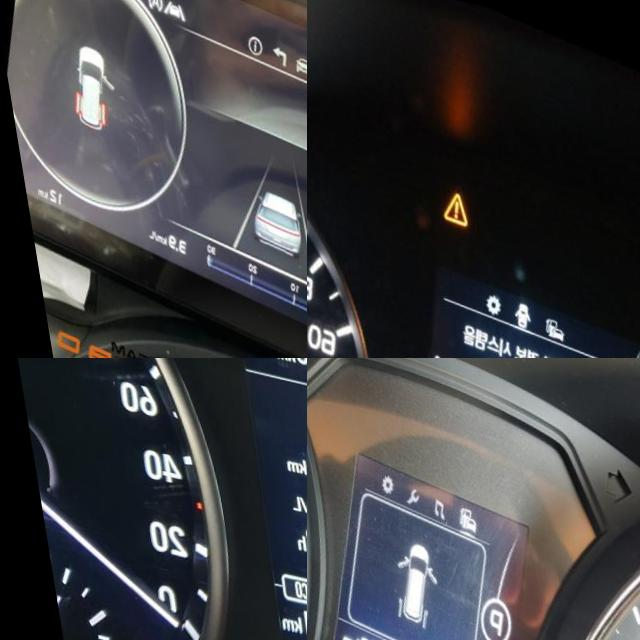Central Warning lamp: (433, 174, 470, 218)
LaneCenteringOff: (156, 0, 185, 15)
